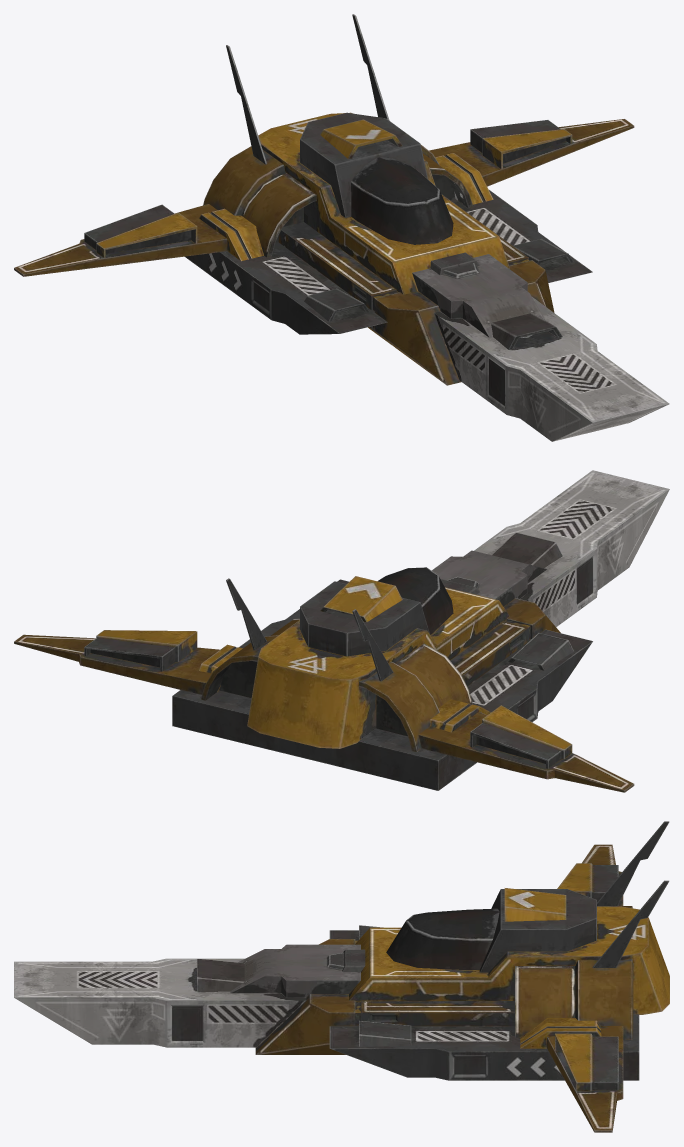
File: Challenger.9b70a36e92.glb
The picture shows the model from 3 angles, top to bottom: view 1: azimuth 30°, elevation 25°; view 2: azimuth 150°, elevation 25°; view 3: azimuth 270°, elevation 25°; orthographic projection. The views are drawn at different scales.
Visible parts, largest first — view 1: Challenger; view 2: Challenger; view 3: Challenger.
Part boxes in pixels (x1,y1,x2,y2): Challenger: (14,14,669,441); Challenger: (14,470,669,792); Challenger: (14,821,669,1132).
Size of the model in its own units: 10.5 by 3.02 by 10.18.
1 material, 1 textured.
